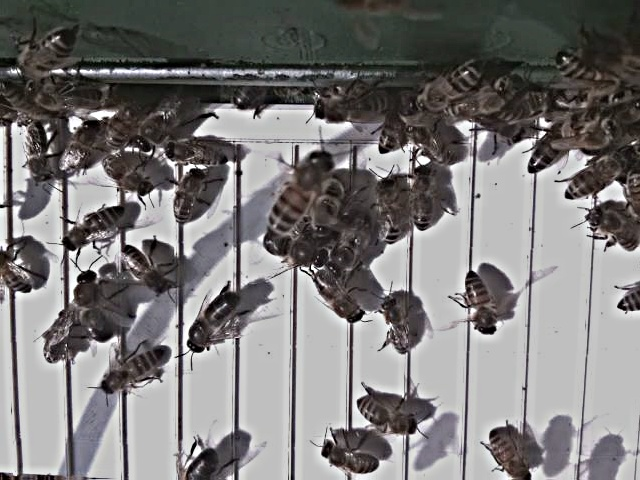Drone: (182, 288, 240, 359), (70, 270, 121, 348), (310, 267, 362, 327), (260, 234, 330, 270)
Worker: (266, 148, 327, 235), (98, 345, 169, 399), (55, 206, 128, 255), (117, 242, 170, 298), (55, 120, 101, 182), (559, 159, 622, 202), (584, 207, 638, 256), (21, 119, 57, 191), (377, 293, 415, 361), (354, 396, 418, 436), (315, 439, 378, 479), (402, 125, 457, 169), (483, 428, 529, 480), (98, 154, 152, 197), (461, 270, 494, 339), (524, 121, 563, 179), (40, 305, 74, 370), (162, 139, 233, 170), (372, 176, 402, 249), (169, 167, 204, 229), (0, 248, 35, 302), (407, 166, 434, 234)
